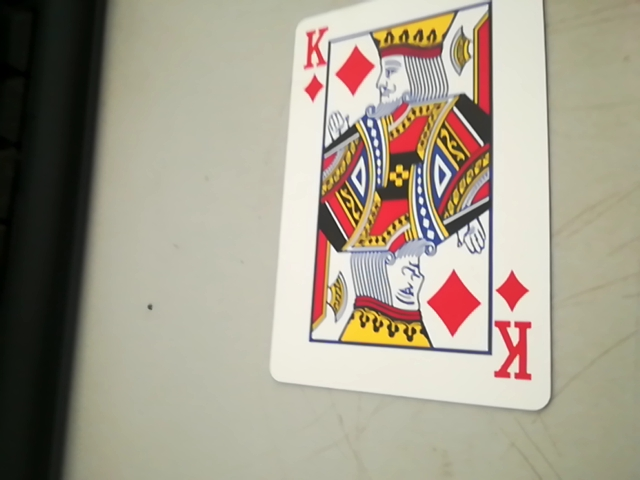fk k: (493, 269, 535, 391), (298, 20, 327, 104)
